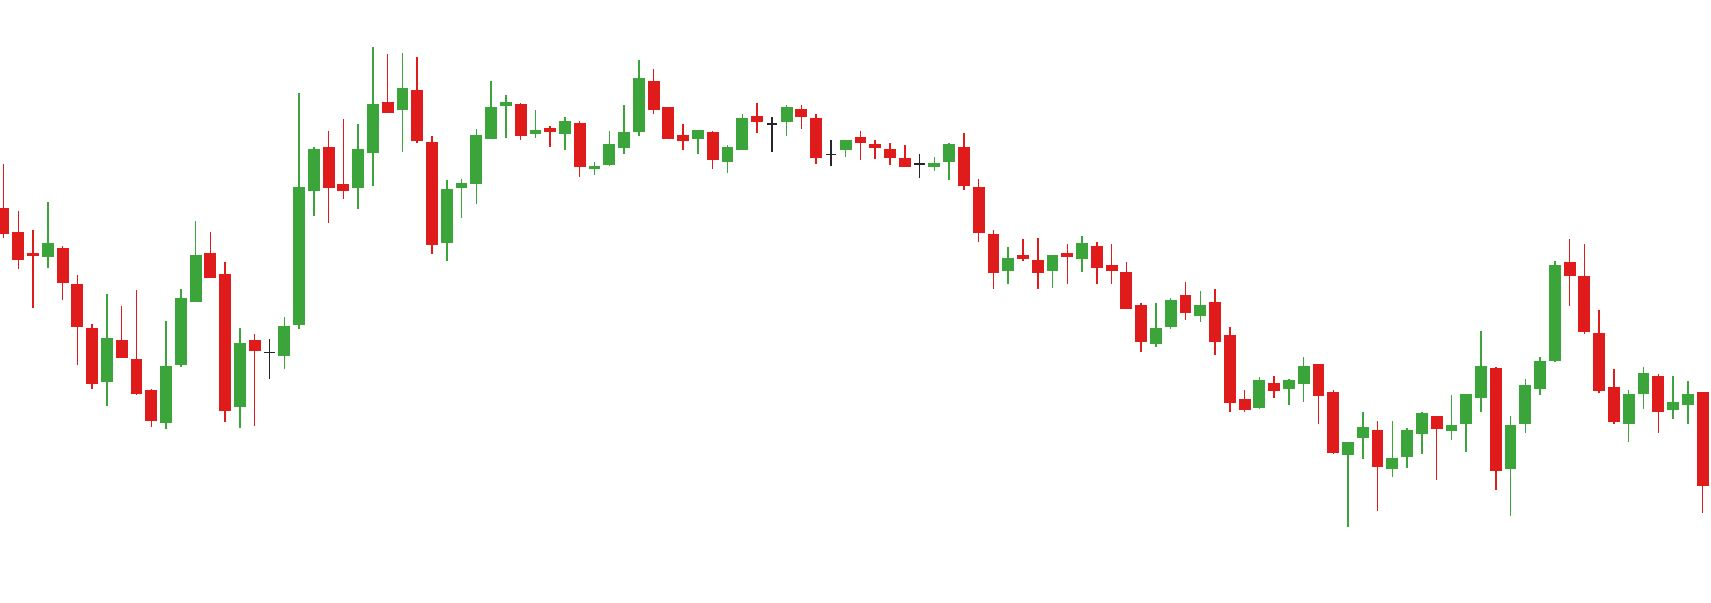buy: (306, 124, 453, 263), (1429, 402, 1519, 516)
sell: (481, 60, 662, 143)
